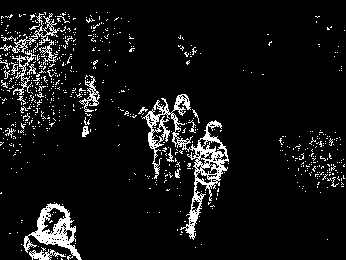person: (199, 117, 232, 235), (146, 97, 171, 184), (174, 92, 195, 181), (75, 72, 100, 140)
